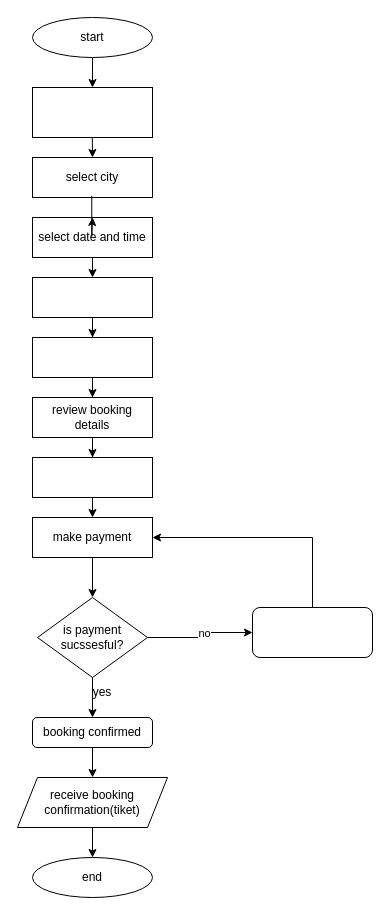
This 390x915 diagram has some shape labels left out. The shapes that lost their labels are listed below. From the top down, each one's box as (x1, y1, x2, y2) in pixels, then its label:
(32, 86, 152, 138): open book my show
(32, 276, 152, 318): select theatre
(32, 336, 152, 378): select seat
(32, 456, 152, 498): choose payment method
(252, 606, 372, 658): try another payment mentho
